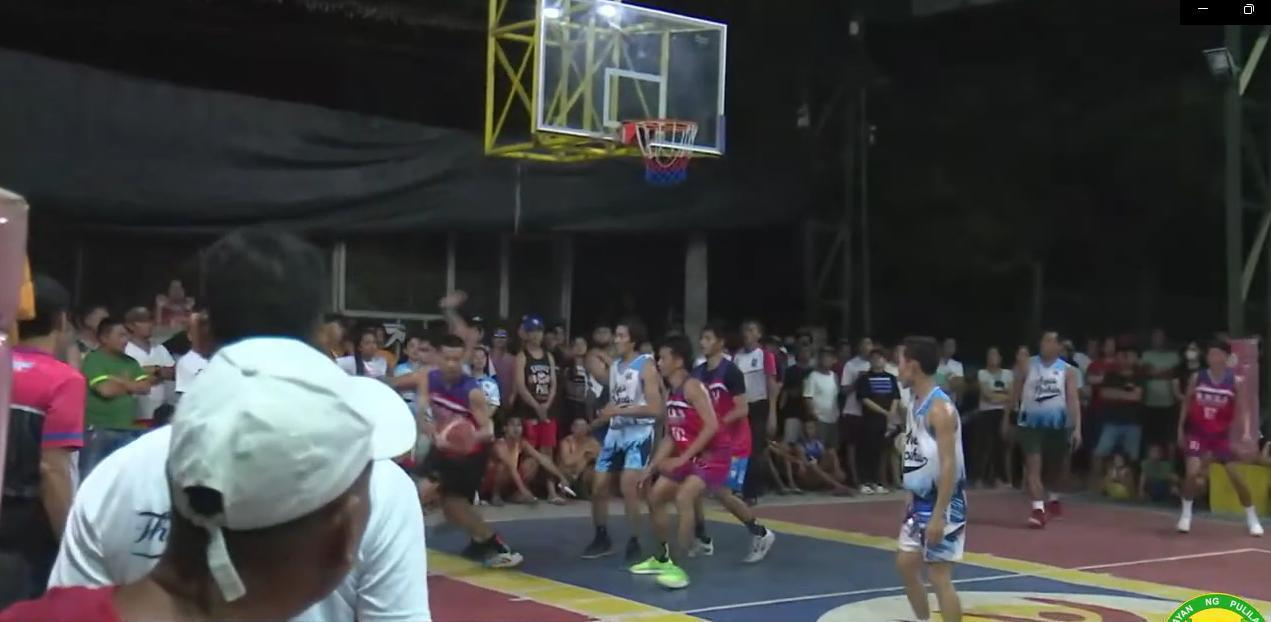ball: (425, 413, 487, 463)
human: (390, 325, 528, 577), (867, 327, 980, 622), (995, 317, 1102, 540), (1163, 338, 1271, 558), (688, 313, 778, 568), (643, 337, 730, 597), (583, 303, 653, 558), (730, 310, 782, 433)
rim: (623, 110, 704, 196)
